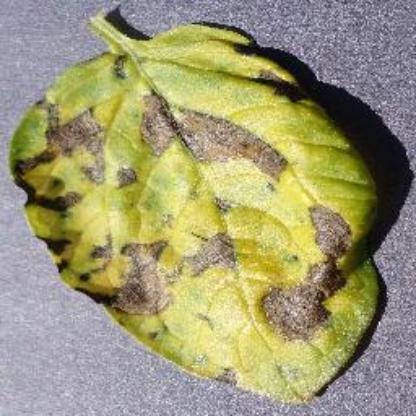Early-Blight: (9, 10, 389, 406)
